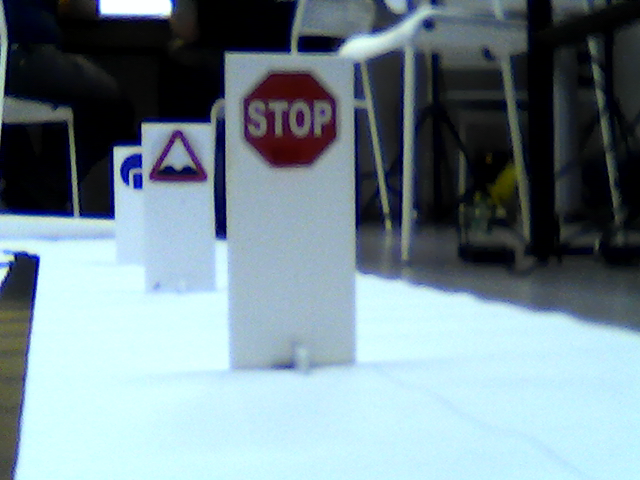Nerov: (146, 127, 207, 184)
Stop: (239, 70, 342, 172)
